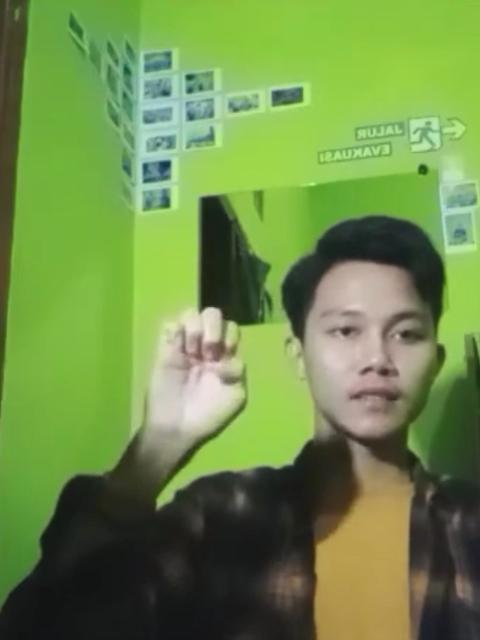S: (137, 302, 250, 450)
